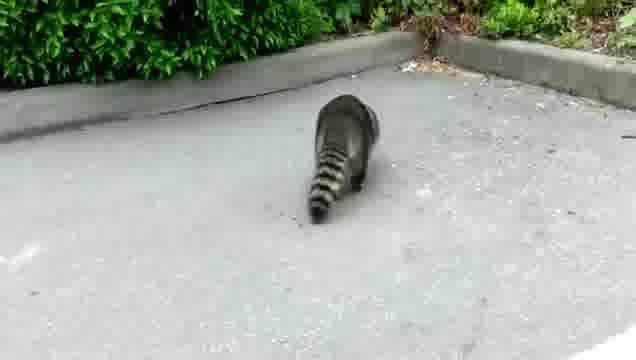raccoon: (301, 93, 391, 226)
